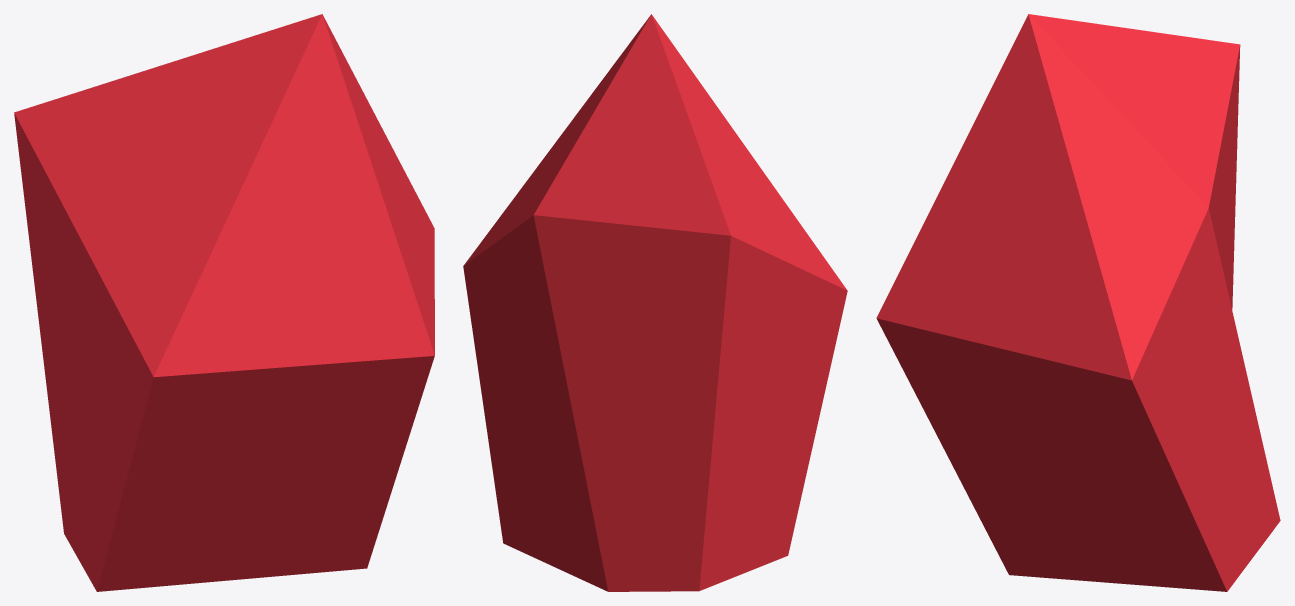
File: redCrystal3.fbx
3 views of the same model, side by side, from view 1: azimuth 30°, elevation 25°; view 2: azimuth 150°, elevation 25°; view 3: azimuth 270°, elevation 25° (orthographic). The views are drawn at different scales.
Visible parts, largest first — view 1: Circle; view 2: Circle; view 3: Circle.
Part boxes in pixels (left/top/right/bottom): Circle: left=14, top=14, right=434, bottom=591; Circle: left=463, top=14, right=847, bottom=591; Circle: left=876, top=14, right=1280, bottom=591.
Size of the model in its own units: 189 by 275 by 185.
